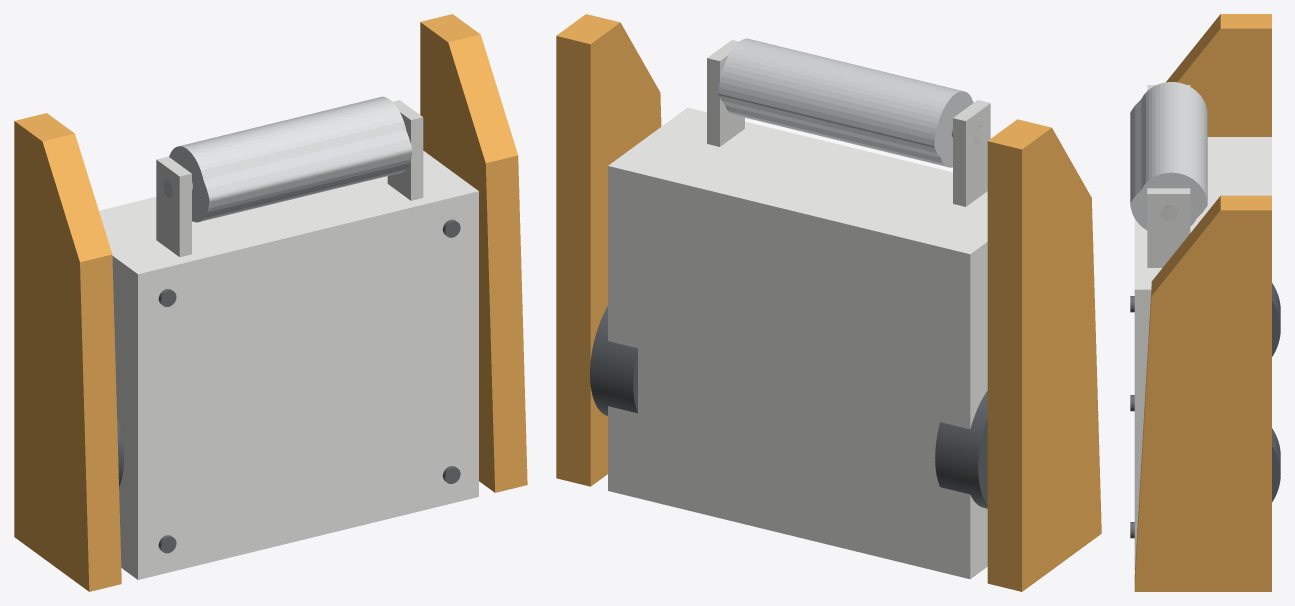
File: beater_griffin.glb
The picture shows the model from 3 angles, left to right: view 1: azimuth 30°, elevation 25°; view 2: azimuth 150°, elevation 25°; view 3: azimuth 270°, elevation 25°; orthographic projection. The views are drawn at different scales.
Parts seen in each view (by area): view 1: chassis, bumper_r, bumper_l, weapon, dt_arm_weapon_0, dt_arm_weapon_1; view 2: chassis, bumper_r, bumper_l, weapon, wheel_r0, dt_arm_weapon_0, wheel_l0, dt_arm_weapon_1; view 3: bumper_l, bumper_r, weapon, chassis, dt_arm_weapon_1, wheel_r0, wheel_l0.
Boxes of the visible parts, bbox=[...] form: chassis: bbox=[99, 151, 478, 579]; bumper_r: bbox=[14, 113, 121, 591]; bumper_l: bbox=[420, 14, 527, 492]; weapon: bbox=[169, 96, 412, 222]; dt_arm_weapon_0: bbox=[156, 156, 191, 256]; dt_arm_weapon_1: bbox=[387, 100, 423, 200]; chassis: bbox=[608, 107, 987, 579]; bumper_r: bbox=[987, 119, 1101, 591]; bumper_l: bbox=[556, 14, 661, 486]; weapon: bbox=[718, 38, 973, 167]; wheel_r0: bbox=[935, 391, 987, 508]; dt_arm_weapon_0: bbox=[953, 100, 990, 206]; wheel_l0: bbox=[590, 306, 637, 415]; dt_arm_weapon_1: bbox=[707, 40, 744, 146]; bumper_l: bbox=[1134, 195, 1271, 591]; bumper_r: bbox=[1166, 14, 1271, 136]; weapon: bbox=[1130, 82, 1207, 230]; chassis: bbox=[1134, 137, 1271, 569]; dt_arm_weapon_1: bbox=[1147, 188, 1190, 267]; wheel_r0: bbox=[1272, 283, 1280, 356]; wheel_l0: bbox=[1272, 428, 1280, 501].
Bounding box in the file's own units: 108 × 98 × 35.01.
